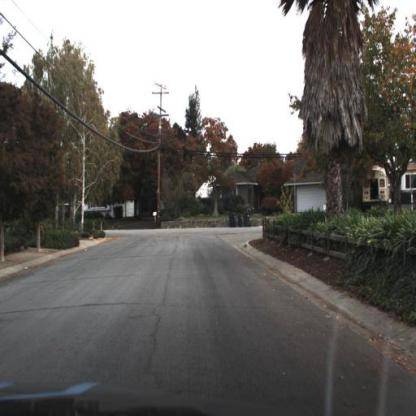truck: (358, 160, 392, 213), (361, 166, 390, 209)
